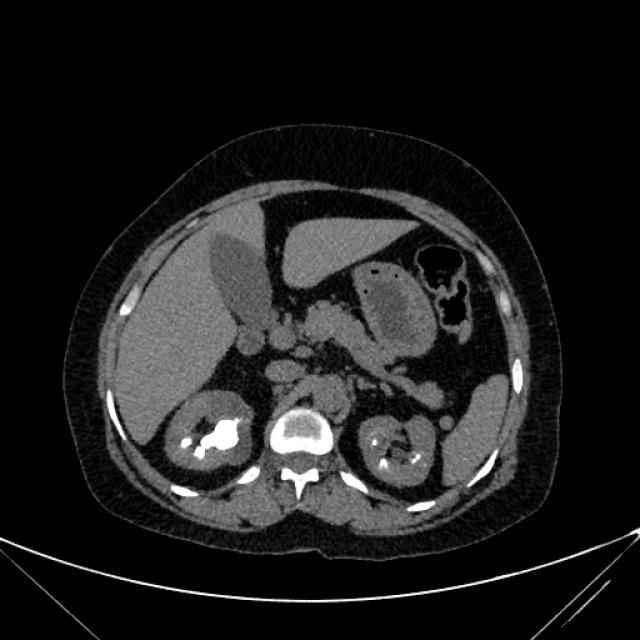kidney: (177, 396, 249, 468), (366, 418, 434, 486)
stone: (199, 421, 236, 454), (182, 438, 192, 447), (414, 454, 420, 462), (381, 460, 386, 468), (373, 440, 377, 445)
